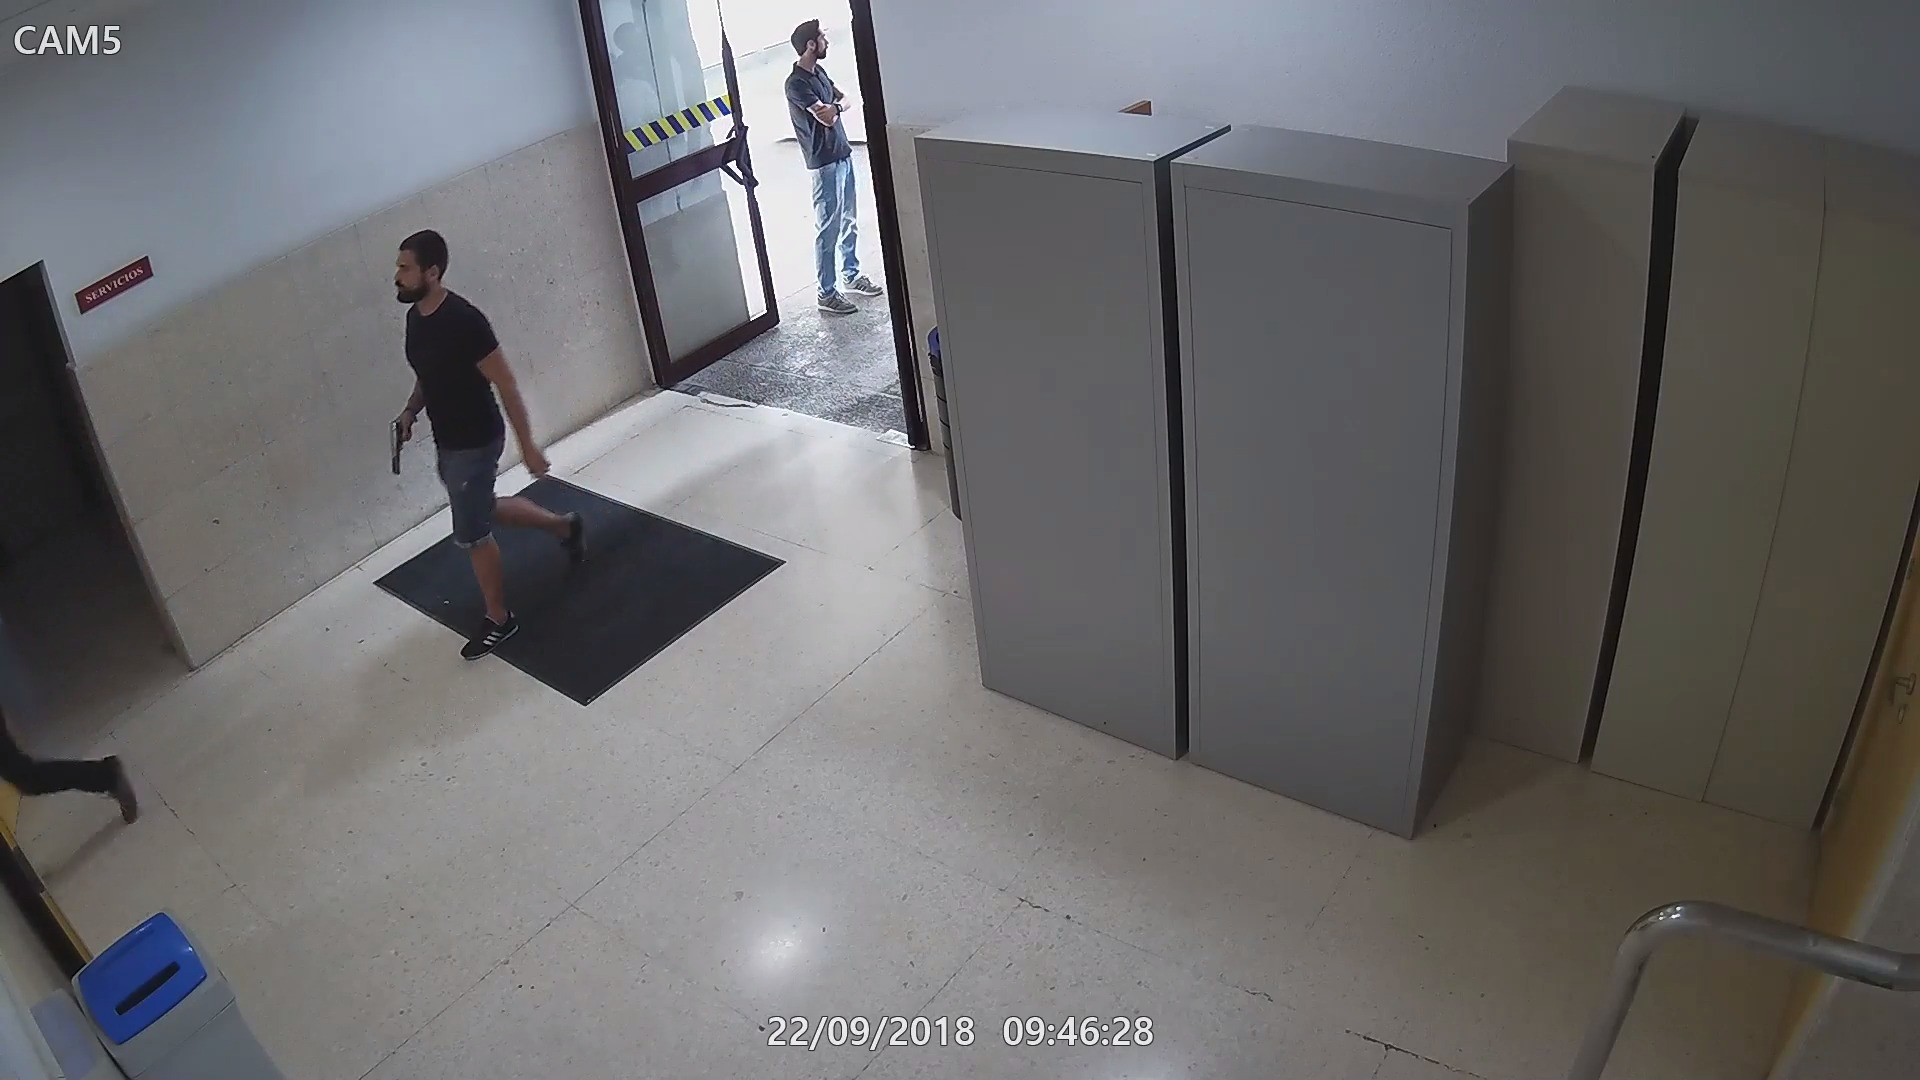Handgun: (388, 417, 417, 477)
